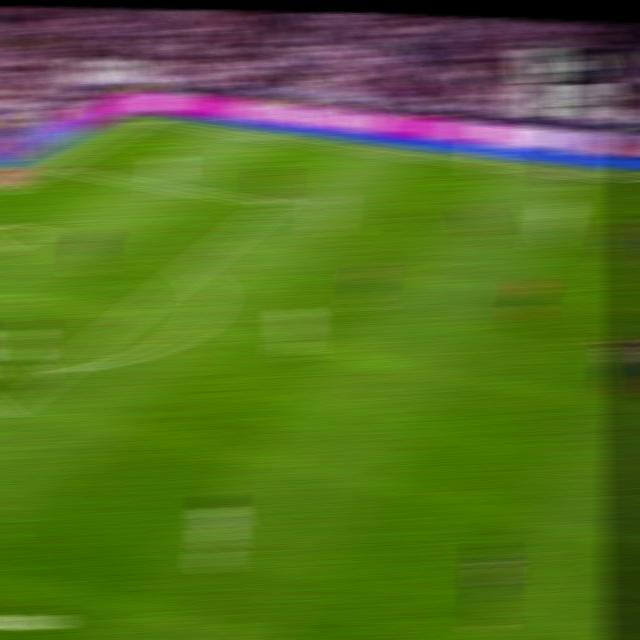bigarea_top_inner: (261, 194, 287, 213)
bigarea_top_outter: (42, 159, 67, 173)
bottom_arc_area_intersection: (47, 357, 76, 381)
corner: (134, 114, 161, 125)
smallarea_top_inner: (23, 224, 46, 237)
top_arc_area_intersection: (179, 258, 205, 276)
